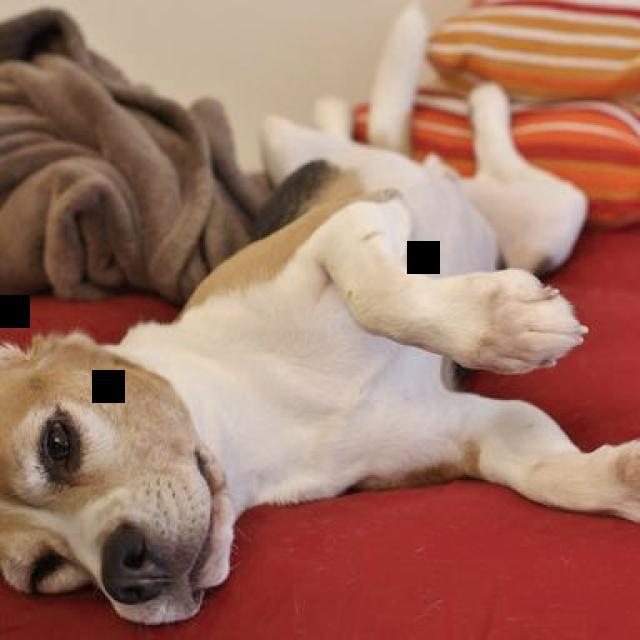adult_dog: (1, 6, 640, 627)
